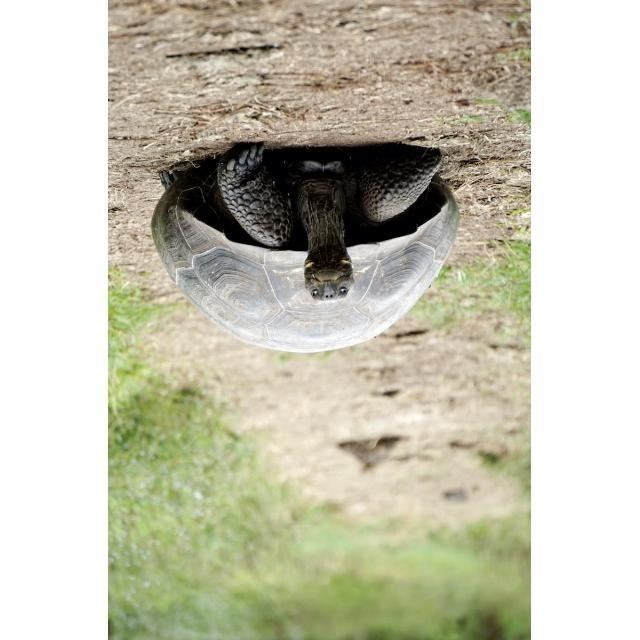turtle: (149, 138, 463, 354)
